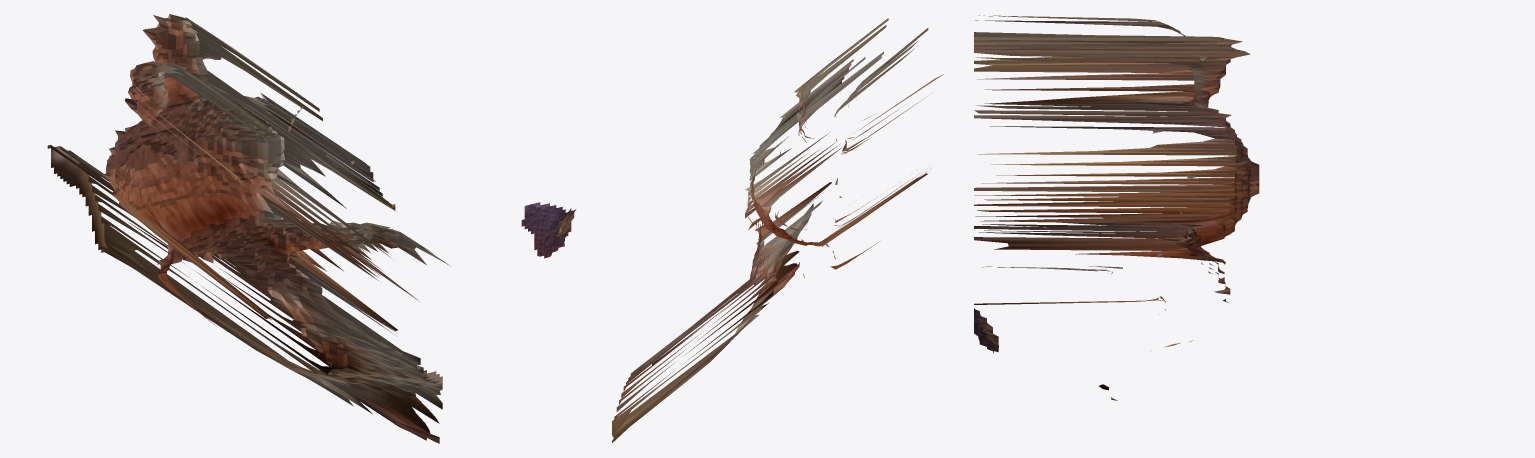
The model's file is frame_00313.glb.
The picture shows the model from 3 angles, left to right: view 1: azimuth 30°, elevation 25°; view 2: azimuth 150°, elevation 25°; view 3: azimuth 270°, elevation 25°; orthographic projection. The views are drawn at different scales.
Parts seen in each view (by area): view 1: geometry_0; view 2: geometry_0; view 3: geometry_0.
Boxes of the visible parts, bbox=[...] form: geometry_0: bbox=[47, 14, 576, 443]; geometry_0: bbox=[612, 18, 943, 442]; geometry_0: bbox=[974, 15, 1259, 400].
Size of the model in its own units: 0.108 by 0.1154 by 0.16.
Materials: 1 (1 with a texture image).
